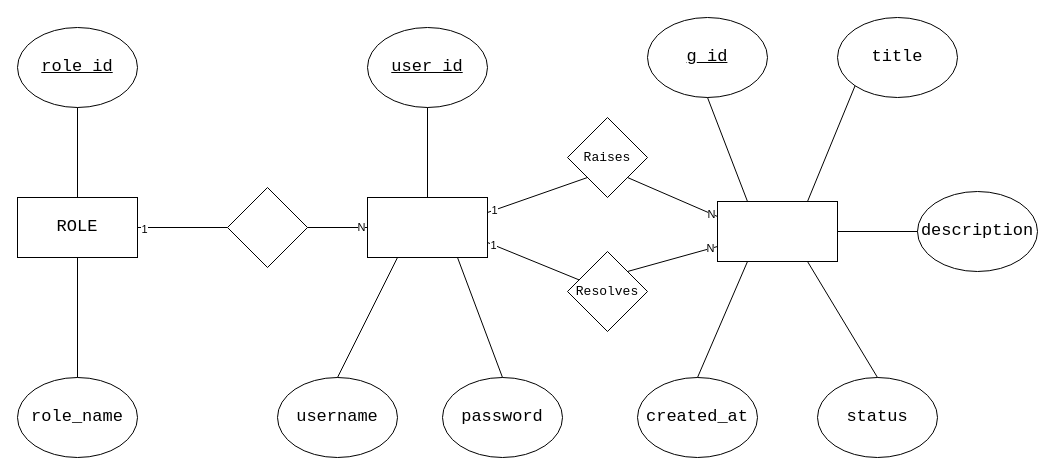
The diagram is 1055 pixels wide and 475 high, and some of its shapes have lost their labels. The centre of each missing label's shape, as x and y in pixels:
Defines: [267,227]
GRIEVANCE: [777,231]
USER: [427,227]
